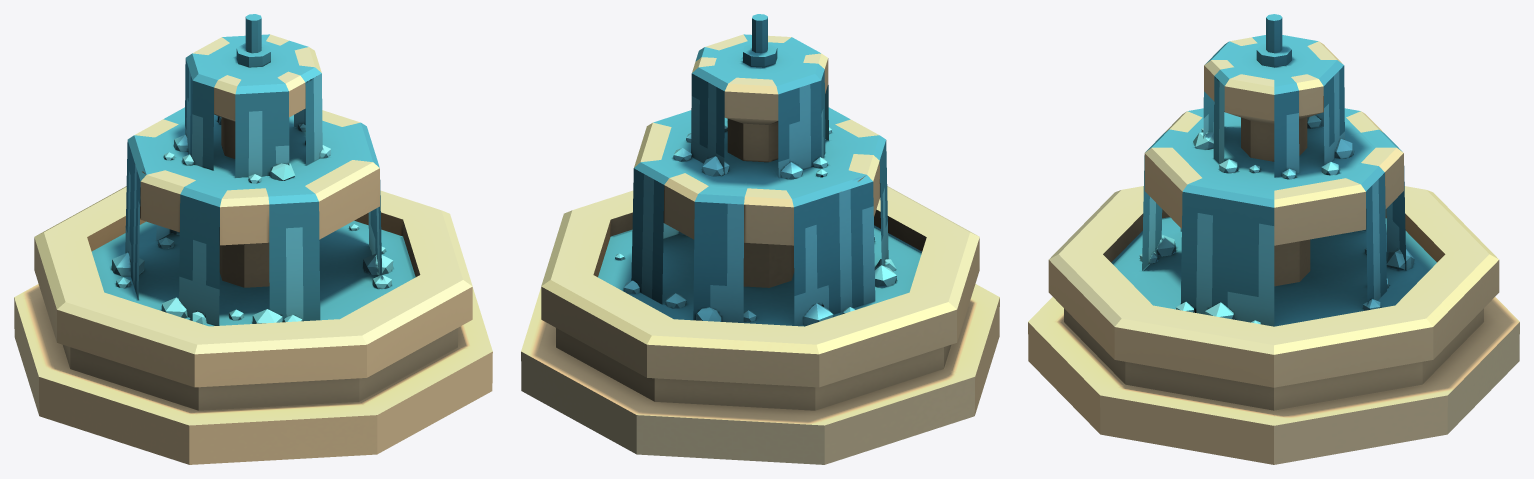
The model's file is fountain.obj.
The picture shows the model from 3 angles, left to right: view 1: azimuth 30°, elevation 25°; view 2: azimuth 150°, elevation 25°; view 3: azimuth 270°, elevation 25°; orthographic projection.
Parts seen in each view (by area): view 1: fountain; view 2: fountain; view 3: fountain.
Boxes of the visible parts, x1,y1,x2,y2 form: fountain: (14, 14, 492, 464); fountain: (521, 14, 999, 464); fountain: (1028, 14, 1519, 464).
Size of the model in its own units: 1.99 by 1.53 by 1.99.
Materials: 1 (1 with a texture image).
